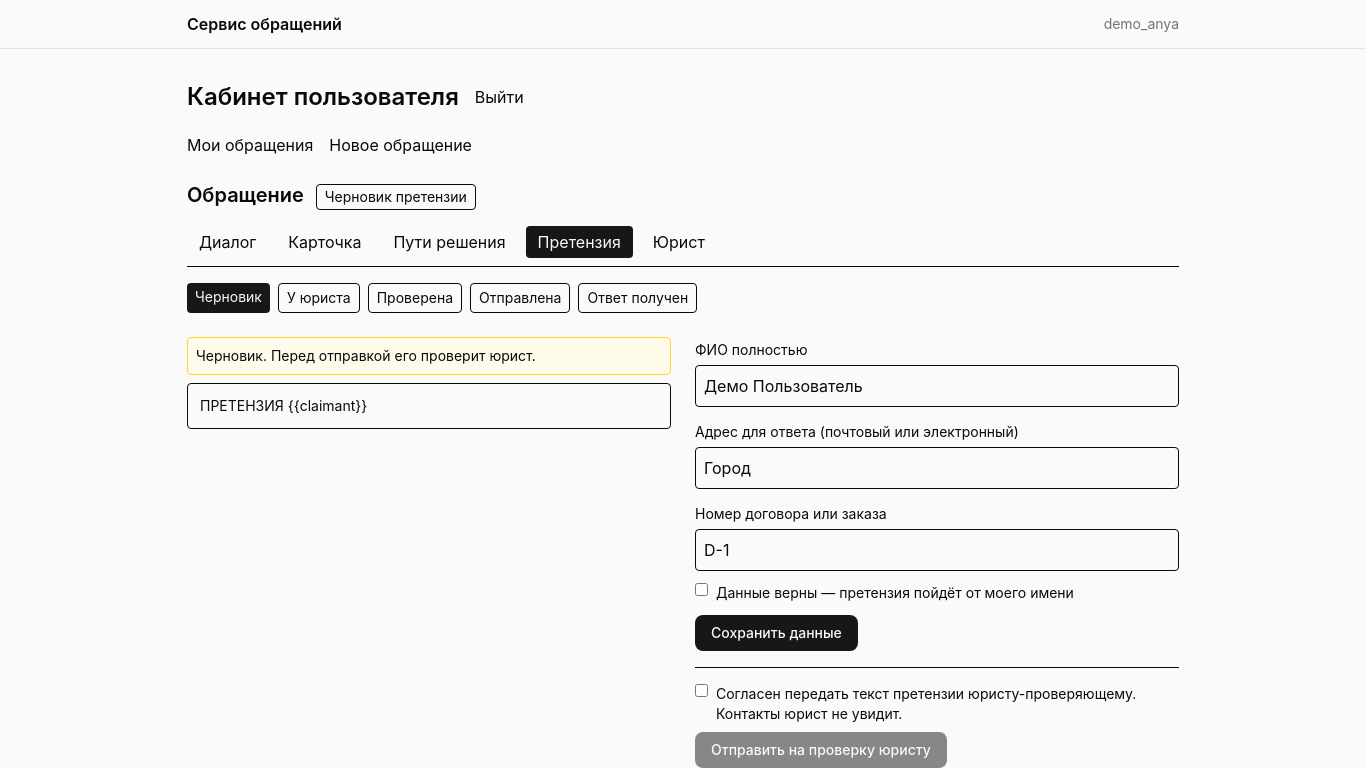
Test case: F5 claim › requires consent before sending to review
The width and height of the screenshot is (1366, 768).
Later steps or results of the test are not shown.
Check: the button "Отправить на проверку юристу" is disabled, box [695, 732, 947, 767]
Click the checkbox labelled "Согласен передать текст претензии" at (702, 690), box [695, 684, 708, 697]
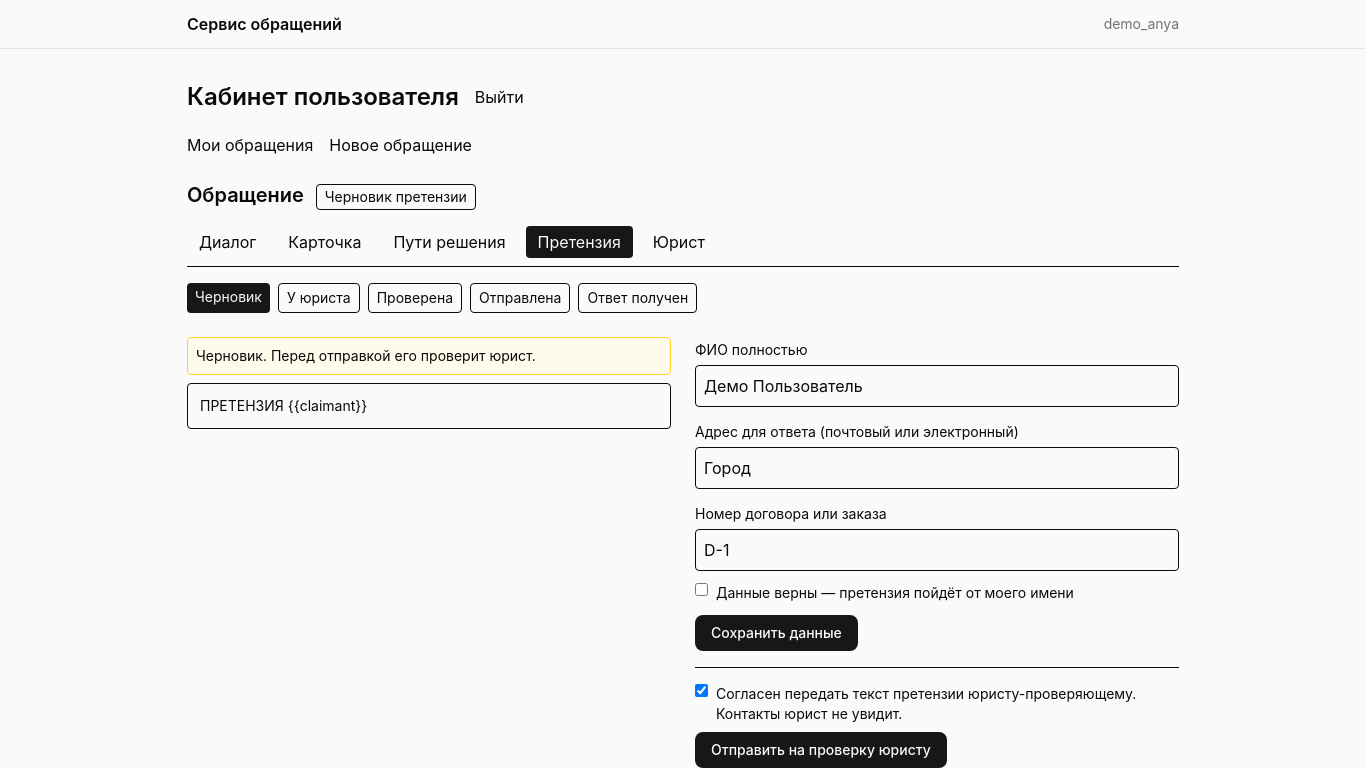
Check: the button "Отправить на проверку юристу" is enabled, box [695, 732, 947, 767]
